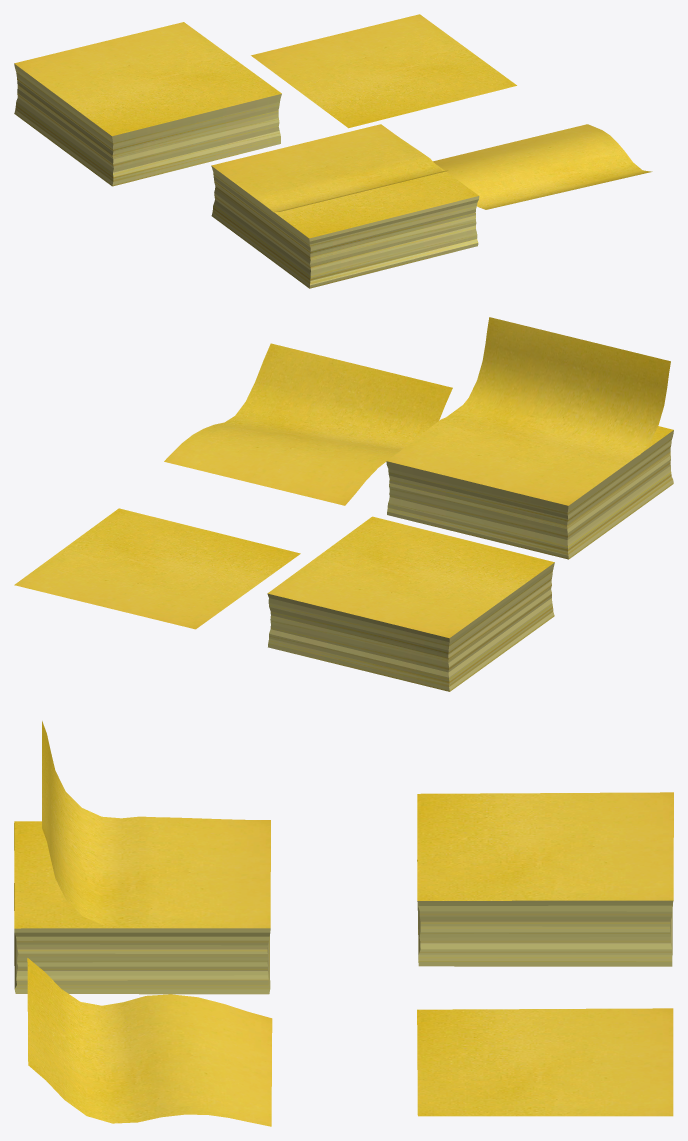
File: post_it.glb
3 renders of one model, top to bottom at view 1: azimuth 30°, elevation 25°; view 2: azimuth 150°, elevation 25°; view 3: azimuth 270°, elevation 25°, orthographic. The views are drawn at different scales.
Visible parts, largest first — view 1: SINGLE, STACK2, single, FRONT_CURVED, single curved; view 2: SINGLE, FRONT_CURVED, single curved, single, STACK2; view 3: SINGLE, single curved, single, FRONT_CURVED, STACK2.
Boxes of the visible parts, bbox=[...] form: SINGLE: bbox=[14, 22, 281, 186]; STACK2: bbox=[211, 124, 479, 288]; single: bbox=[251, 14, 516, 128]; FRONT_CURVED: bbox=[212, 126, 447, 212]; single curved: bbox=[433, 124, 652, 209]; SINGLE: bbox=[267, 516, 554, 691]; FRONT_CURVED: bbox=[392, 317, 670, 505]; single curved: bbox=[164, 343, 452, 505]; single: bbox=[14, 508, 300, 629]; STACK2: bbox=[386, 406, 673, 559]; SINGLE: bbox=[417, 792, 673, 966]; single curved: bbox=[27, 958, 272, 1126]; single: bbox=[417, 1008, 673, 1116]; FRONT_CURVED: bbox=[42, 721, 270, 928]; STACK2: bbox=[14, 820, 270, 994].
Bounding box in the file's own units: 4.96 × 1.4 × 5.16.
3 materials, 3 textured.
